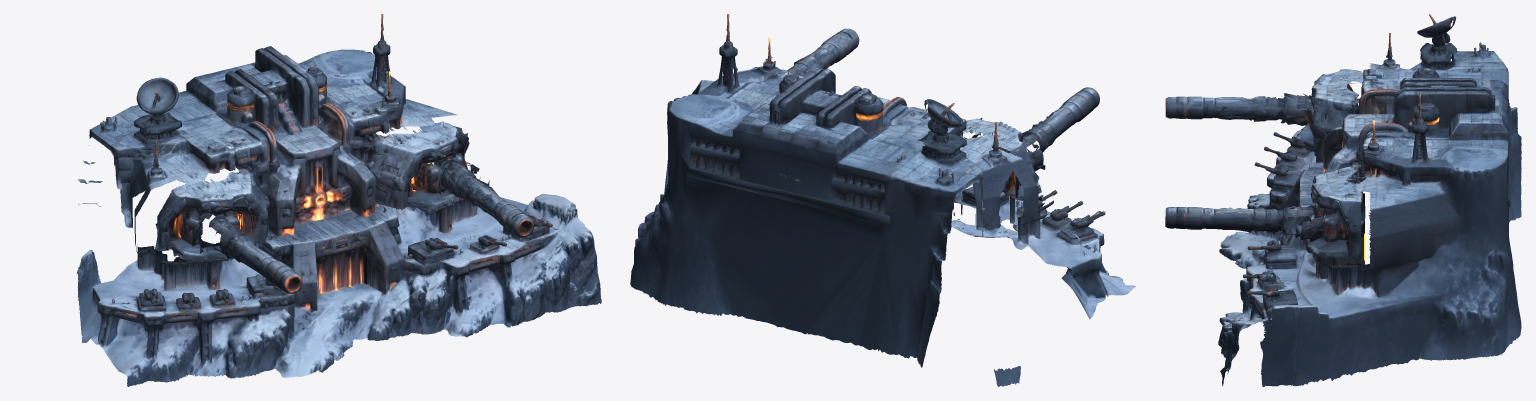
The model's file is helion-stronghold.glb.
The picture shows the model from 3 angles, left to right: view 1: azimuth 30°, elevation 25°; view 2: azimuth 150°, elevation 25°; view 3: azimuth 270°, elevation 25°; orthographic projection. The views are drawn at different scales.
Parts seen in each view (by area): view 1: stronghold_hull, stronghold_cannon_left, stronghold_cannon_right, stronghold_cannon_left_wreck, stronghold_cannon_right_wreck, stronghold_gun_right, stronghold_gun_left, stronghold_door_b, stronghold_radar, stronghold_gun_right_wreck, stronghold_gun_left_wreck, stronghold_door_a; view 2: stronghold_hull, stronghold_cannon_left, stronghold_gun_left, stronghold_gun_right, stronghold_cannon_left_wreck, stronghold_radar, stronghold_gun_left_wreck; view 3: stronghold_hull, stronghold_cannon_right, stronghold_cannon_left, stronghold_gun_left, stronghold_gun_right, stronghold_cannon_right_wreck, stronghold_gun_left_wreck, stronghold_gun_right_wreck, stronghold_cannon_left_wreck, stronghold_radar, stronghold_chamber.
Boxes of the visible parts, x1,y1,x2,y2 form: stronghold_hull: [76, 14, 601, 386]; stronghold_cannon_left: [157, 165, 266, 262]; stronghold_cannon_right: [362, 122, 469, 210]; stronghold_cannon_left_wreck: [155, 165, 270, 261]; stronghold_cannon_right_wreck: [362, 121, 480, 212]; stronghold_gun_right: [432, 159, 534, 237]; stronghold_gun_left: [209, 215, 302, 293]; stronghold_door_b: [334, 246, 368, 294]; stronghold_radar: [136, 77, 178, 114]; stronghold_gun_right_wreck: [432, 159, 499, 212]; stronghold_gun_left_wreck: [209, 214, 272, 268]; stronghold_door_a: [316, 254, 339, 301]; stronghold_hull: [630, 14, 1135, 386]; stronghold_cannon_left: [965, 118, 1043, 197]; stronghold_gun_left: [1022, 87, 1099, 150]; stronghold_gun_right: [787, 28, 859, 76]; stronghold_cannon_left_wreck: [961, 118, 1045, 206]; stronghold_radar: [924, 99, 963, 133]; stronghold_gun_left_wreck: [1021, 109, 1071, 152]; stronghold_hull: [1218, 33, 1521, 386]; stronghold_cannon_right: [1295, 159, 1362, 258]; stronghold_cannon_left: [1295, 69, 1360, 157]; stronghold_gun_left: [1165, 96, 1311, 122]; stronghold_gun_right: [1165, 204, 1317, 234]; stronghold_cannon_right_wreck: [1295, 158, 1361, 259]; stronghold_gun_left_wreck: [1216, 93, 1312, 125]; stronghold_gun_right_wreck: [1212, 204, 1317, 237]; stronghold_cannon_left_wreck: [1293, 70, 1361, 157]; stronghold_radar: [1417, 14, 1455, 45]; stronghold_chamber: [1335, 193, 1364, 265].
Size of the model in its own units: 12.9 by 6.85 by 9.23.
Materials: 7 (2 with a texture image).
